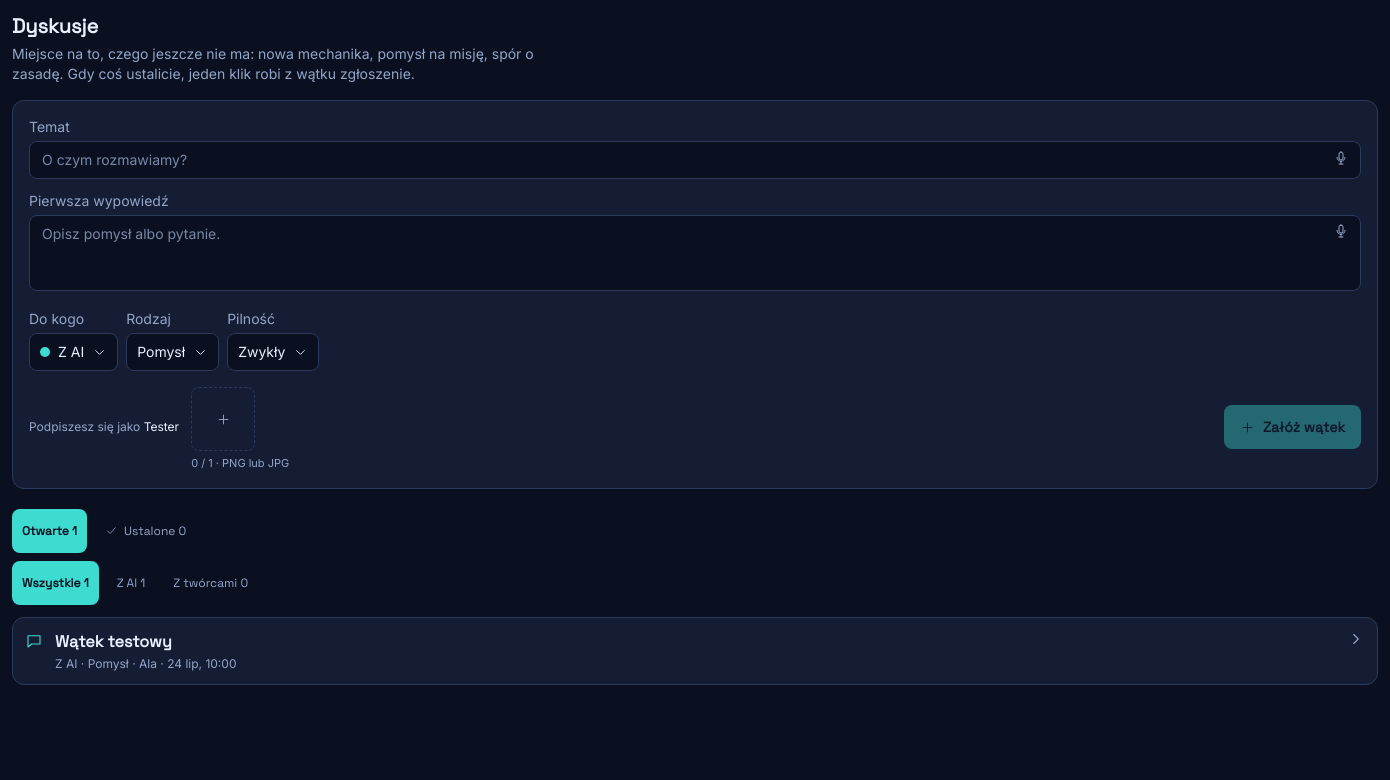
Scenario: DiscussionsPanel — zamiana wątku w zgłoszenie › wątek bez zdjęć też da się zamienić w zgłoszenie
The image size is (1390, 780).
Click the button "Wątek testowy": (113, 641) [12,616,1378,684]
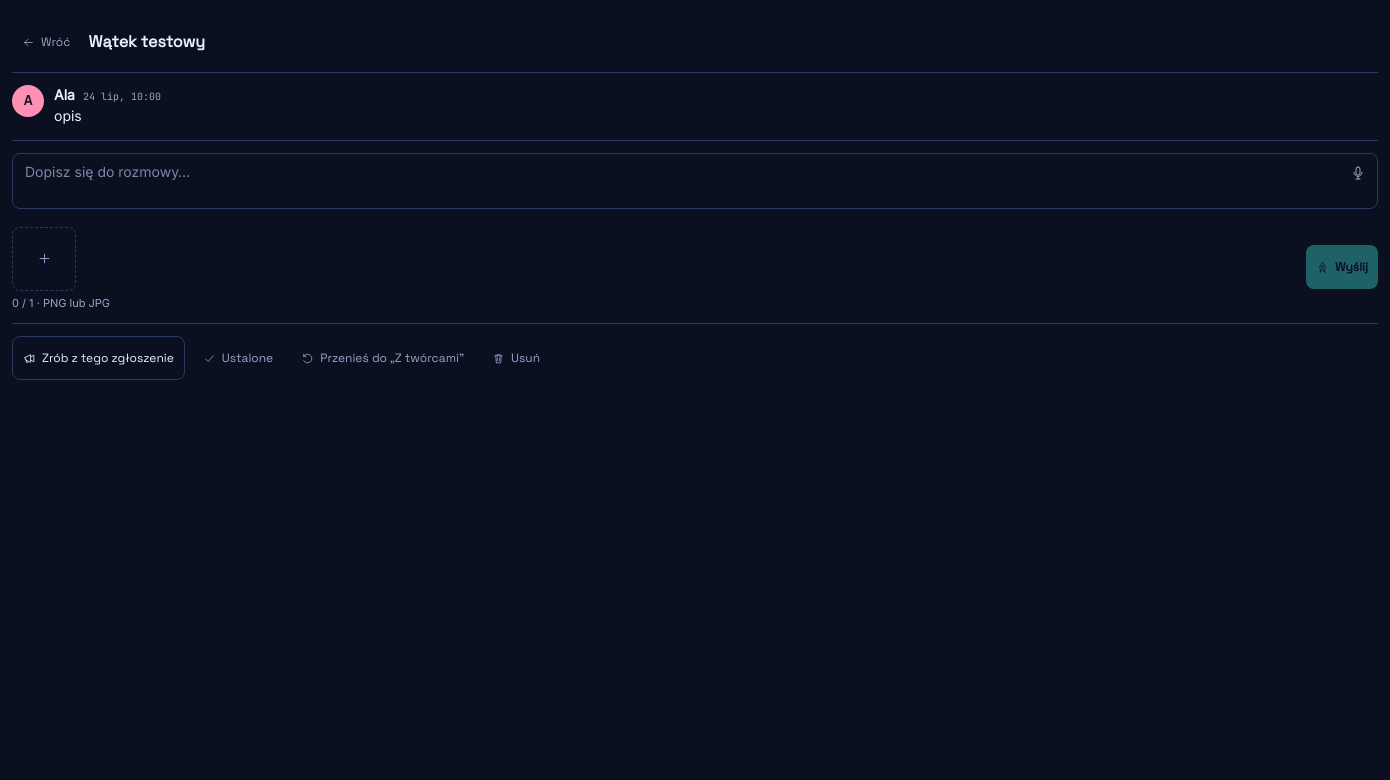
Click the button "Zrób z tego zgłoszenie": (98, 358) [12,336,185,380]
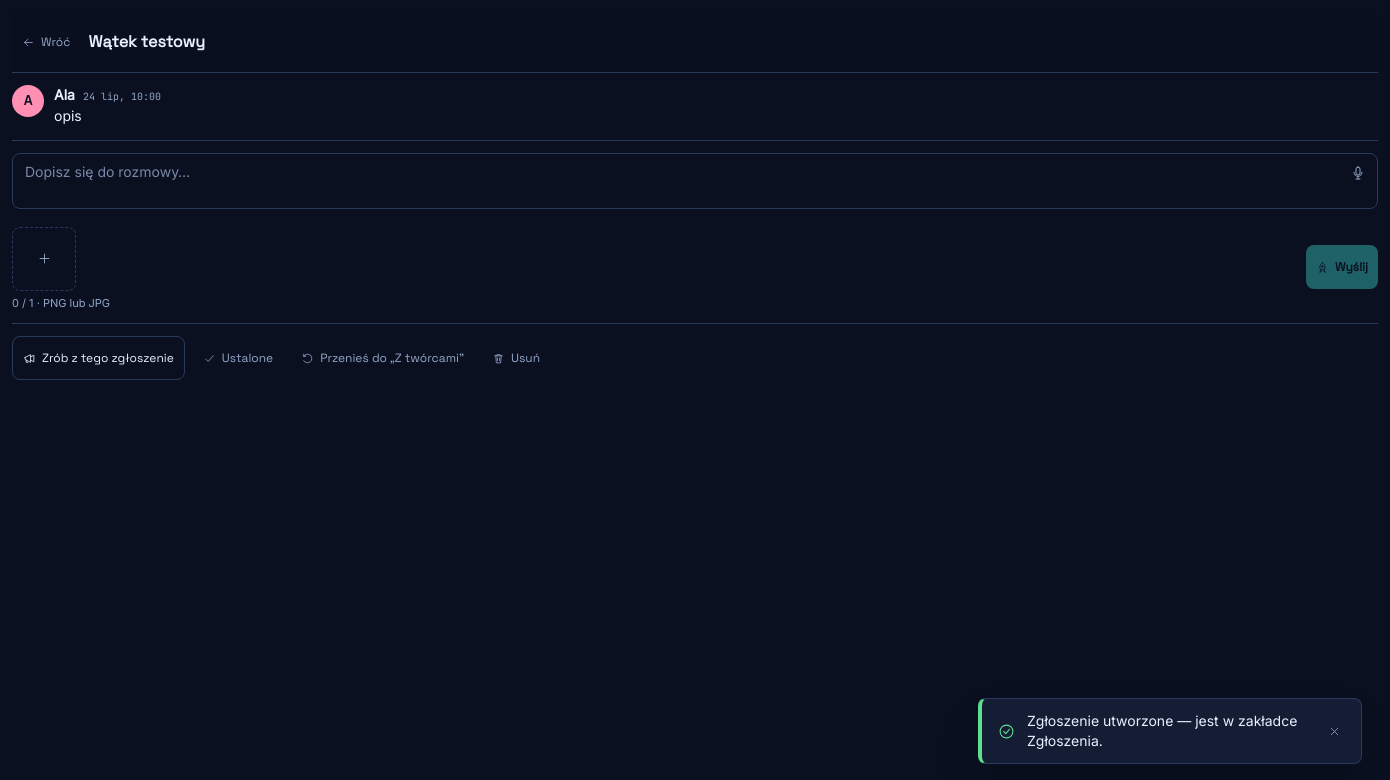
Now the text "Zgłoszenie utworzone — jest w zakładce Zgłoszenia." is shown, box [1027,711,1312,751]
